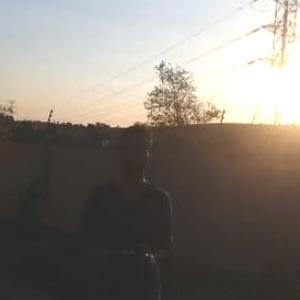follow: (82, 119, 175, 299)
